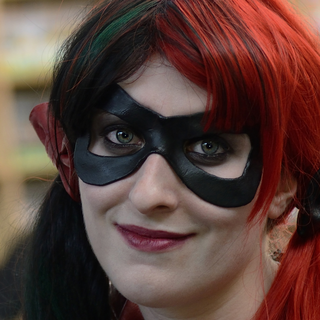eye: (94, 116, 147, 156), (181, 132, 233, 164)
